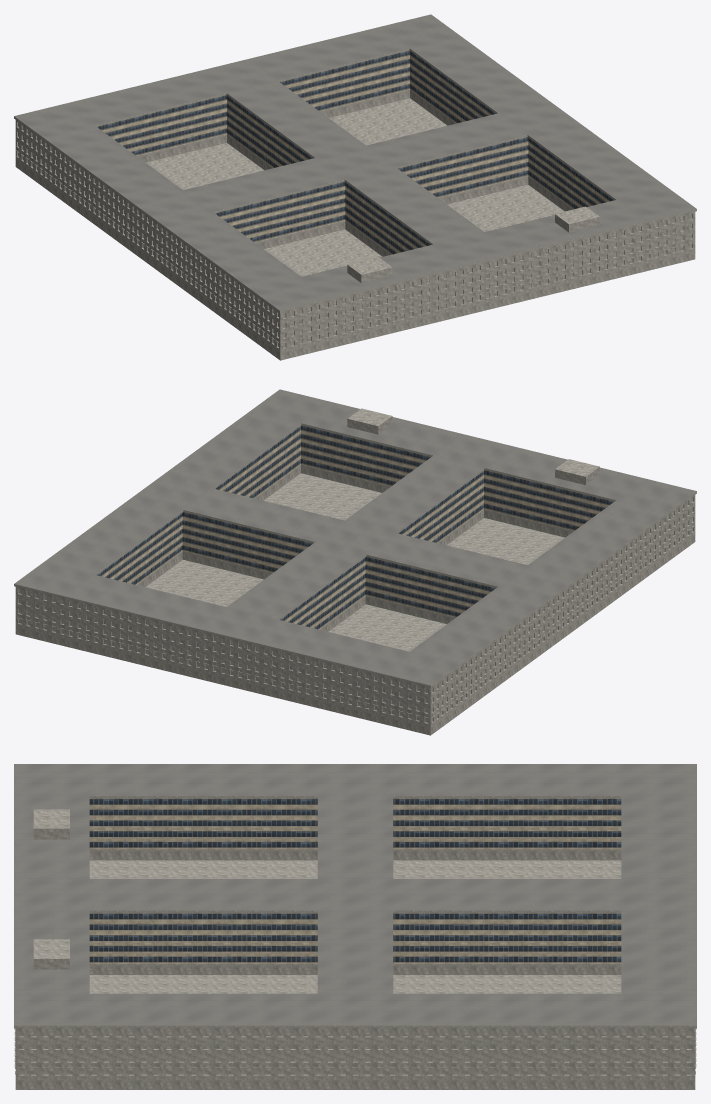
The model's file is labor_perkins.glb.
3 views of the same model, one above another, from view 1: azimuth 30°, elevation 25°; view 2: azimuth 150°, elevation 25°; view 3: azimuth 270°, elevation 25° (orthographic). The views are drawn at different scales.
Parts seen in each view (by area): view 1: labor_perkins; view 2: labor_perkins; view 3: labor_perkins.
Part boxes in pixels (x1,y1,x2,y2): labor_perkins: (14,14,696,360); labor_perkins: (14,389,696,735); labor_perkins: (14,764,696,1089).
Bounding box in the file's own units: 188 × 25.41 × 208.
4 materials, 4 textured.
